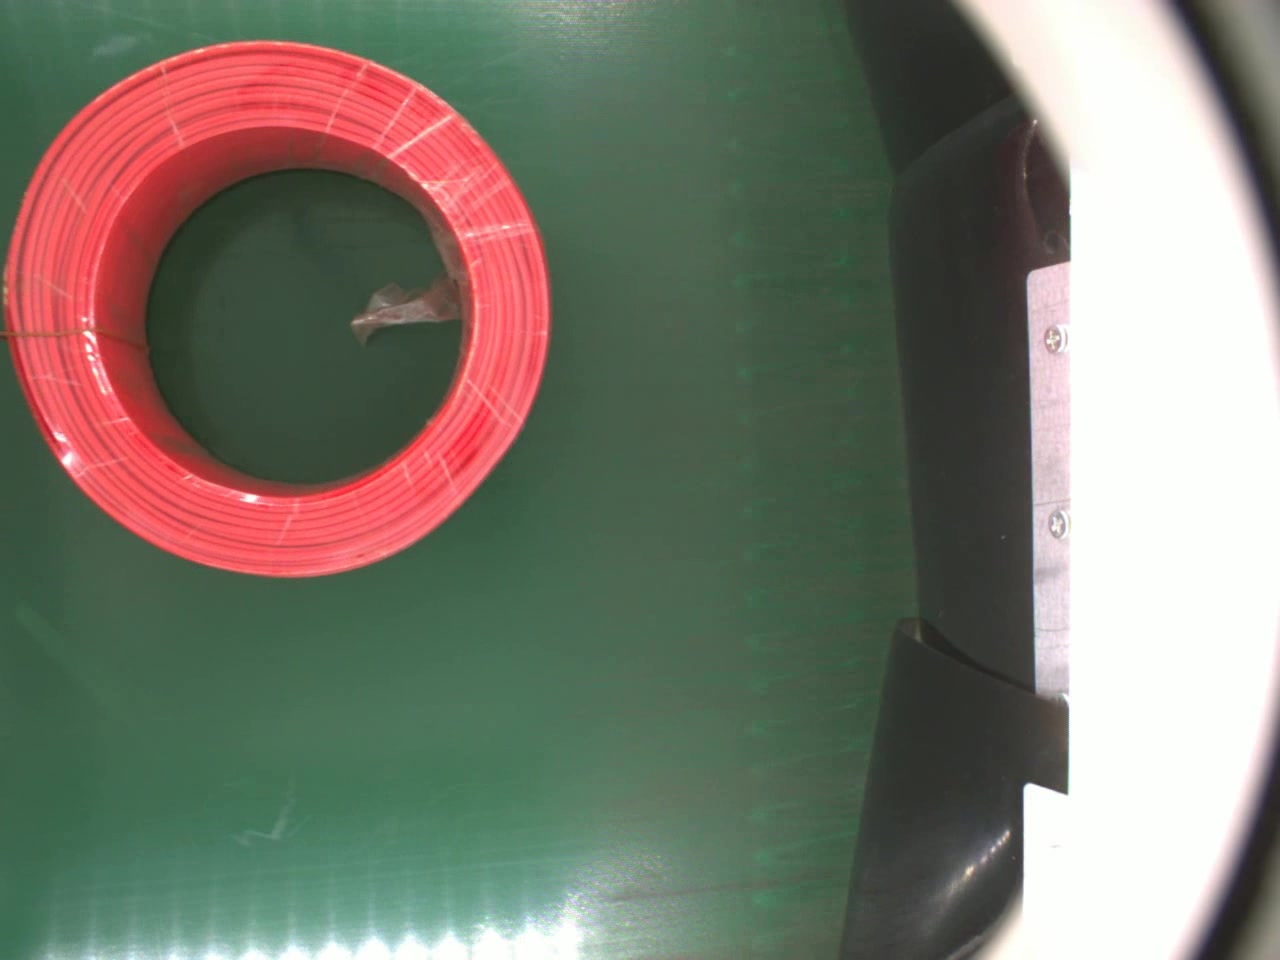red: (0, 34, 561, 589)
